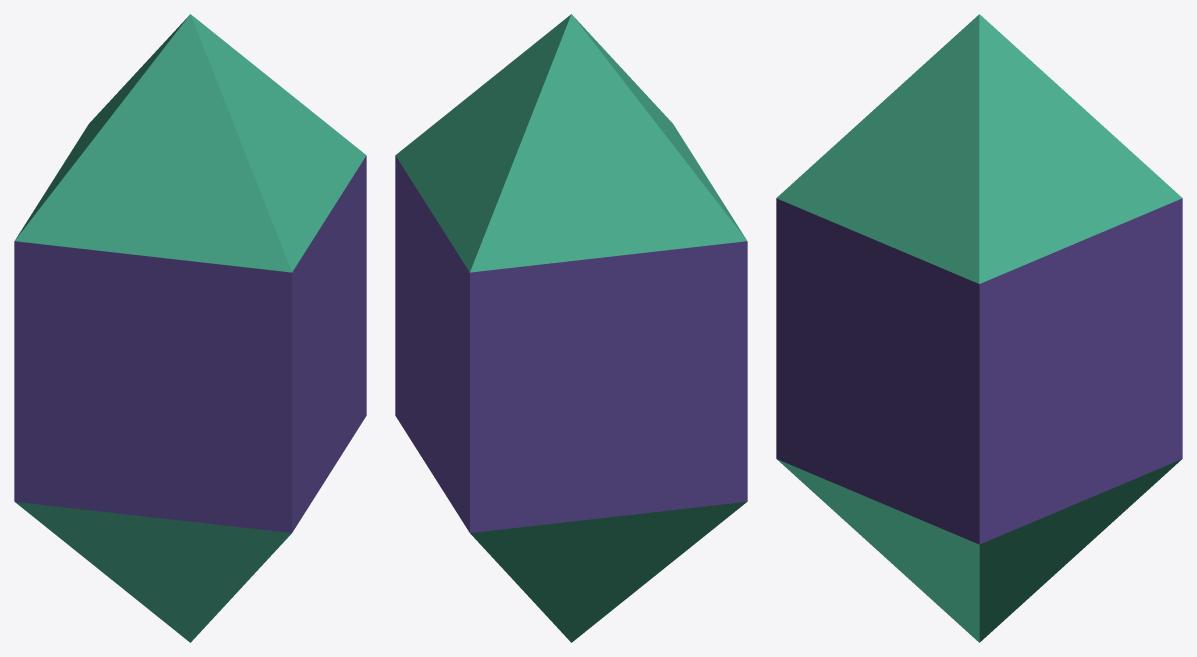
Rendered from J15.BipiramideCuadradaElongada.gltf.
3 views of the same model, side by side, from view 1: azimuth 30°, elevation 25°; view 2: azimuth 150°, elevation 25°; view 3: azimuth 270°, elevation 25° (orthographic).
Parts seen in each view (by area): view 1: J15.Bipiramidecuadradaelongada; view 2: J15.Bipiramidecuadradaelongada; view 3: J15.Bipiramidecuadradaelongada.
Part boxes in pixels (bbox=[...]): J15.Bipiramidecuadradaelongada: bbox=[14, 14, 366, 642]; J15.Bipiramidecuadradaelongada: bbox=[395, 14, 747, 642]; J15.Bipiramidecuadradaelongada: bbox=[776, 14, 1182, 642].
Size of the model in its own units: 11.72 by 20 by 11.72.
